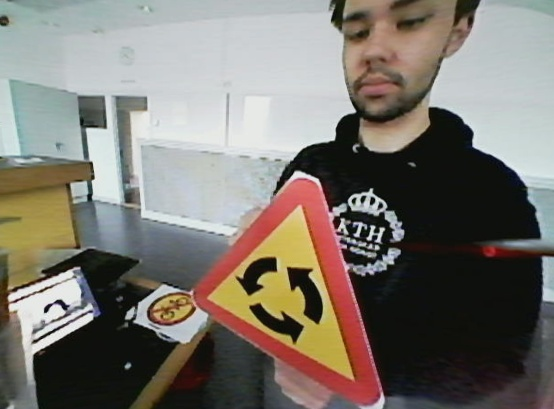roundabout_warning: (192, 170, 386, 406)
